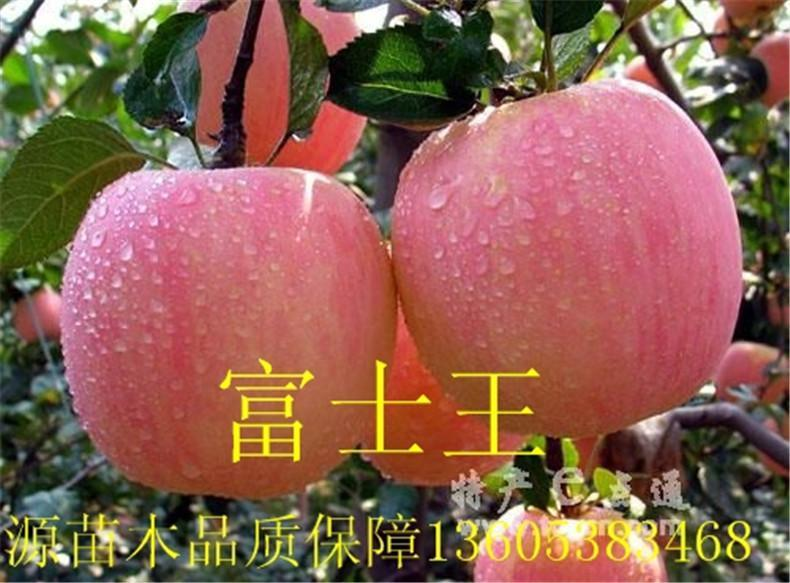apple: (391, 81, 745, 440), (57, 164, 398, 499)
